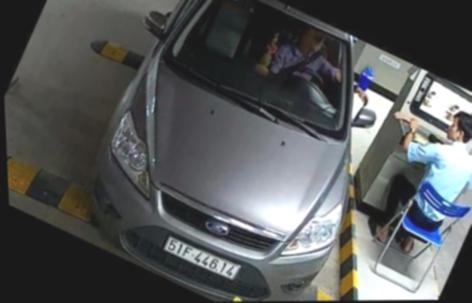License_Plate: (158, 233, 248, 286)
